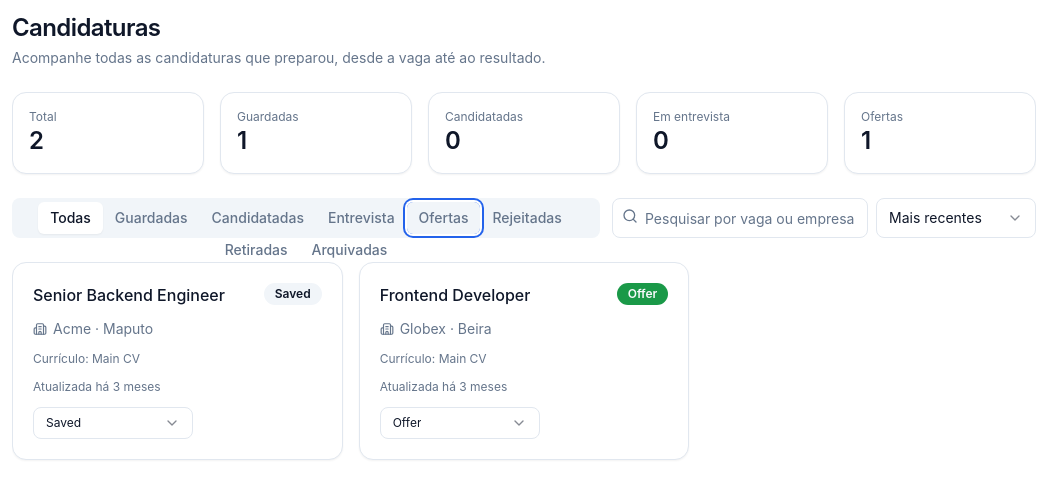
Test: ApplicationsPage › filters by status via the tabs
Expected: the text "Senior Backend Engineer" is shown, [33, 283, 225, 307]
Click the tab "Ofertas".
click(444, 218)  # box [407, 202, 480, 234]
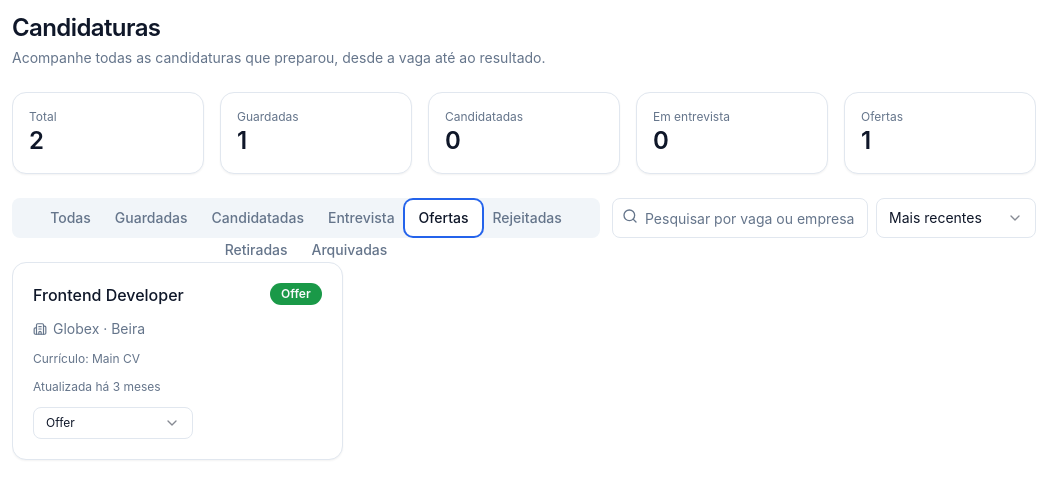
Expected: the text "Frontend Developer" is shown, [33, 283, 184, 307]
Expected: the link "Senior Backend Engineer" is gone
